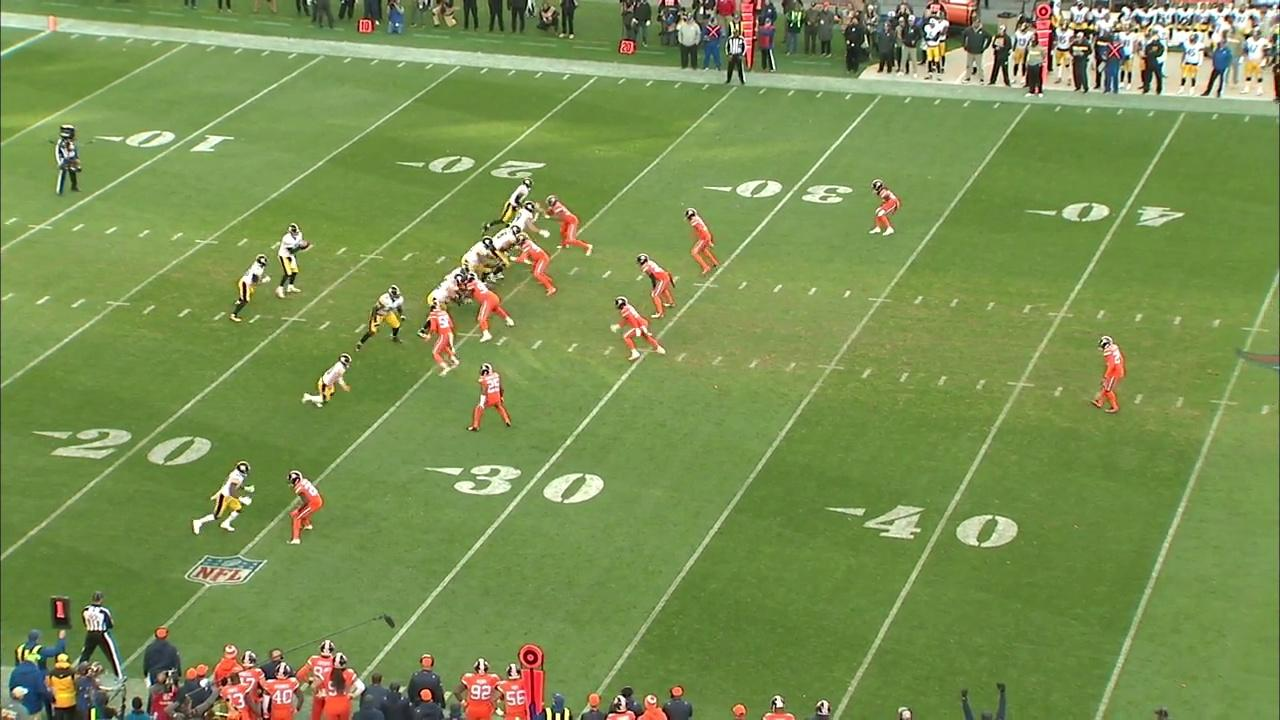player: (191, 459, 249, 538), (610, 295, 664, 362), (284, 468, 327, 546), (543, 192, 593, 257), (299, 348, 353, 408), (361, 279, 407, 349), (468, 277, 516, 340), (418, 276, 465, 339), (466, 365, 512, 429), (231, 253, 270, 324), (483, 178, 534, 231), (1091, 336, 1126, 412), (635, 253, 677, 316), (275, 222, 307, 302), (683, 207, 716, 279), (866, 178, 903, 239), (429, 305, 460, 373), (520, 237, 553, 295), (510, 202, 551, 240), (462, 235, 499, 275), (494, 224, 520, 250), (443, 262, 474, 282)
ref: (79, 588, 119, 673), (50, 117, 81, 205), (714, 25, 751, 90)
